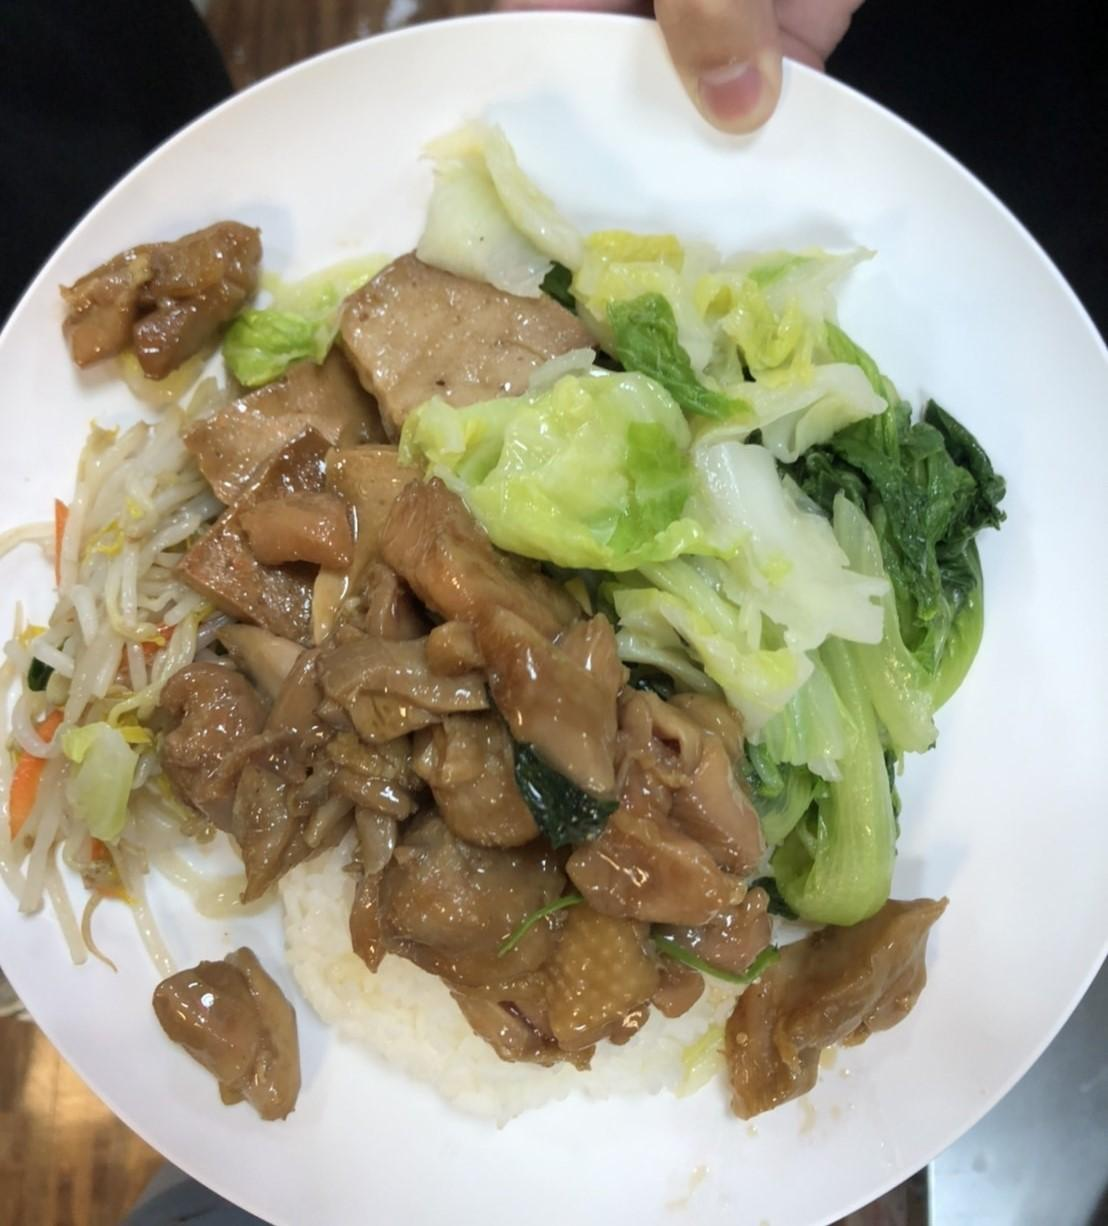big fried chicken leg: (7, 26, 1108, 1226)
big herbal chicken leg: (273, 798, 742, 1115)
braised fish fillet: (398, 126, 881, 717), (780, 415, 1000, 921), (0, 400, 217, 893)
braised pork: (83, 227, 930, 1111)
